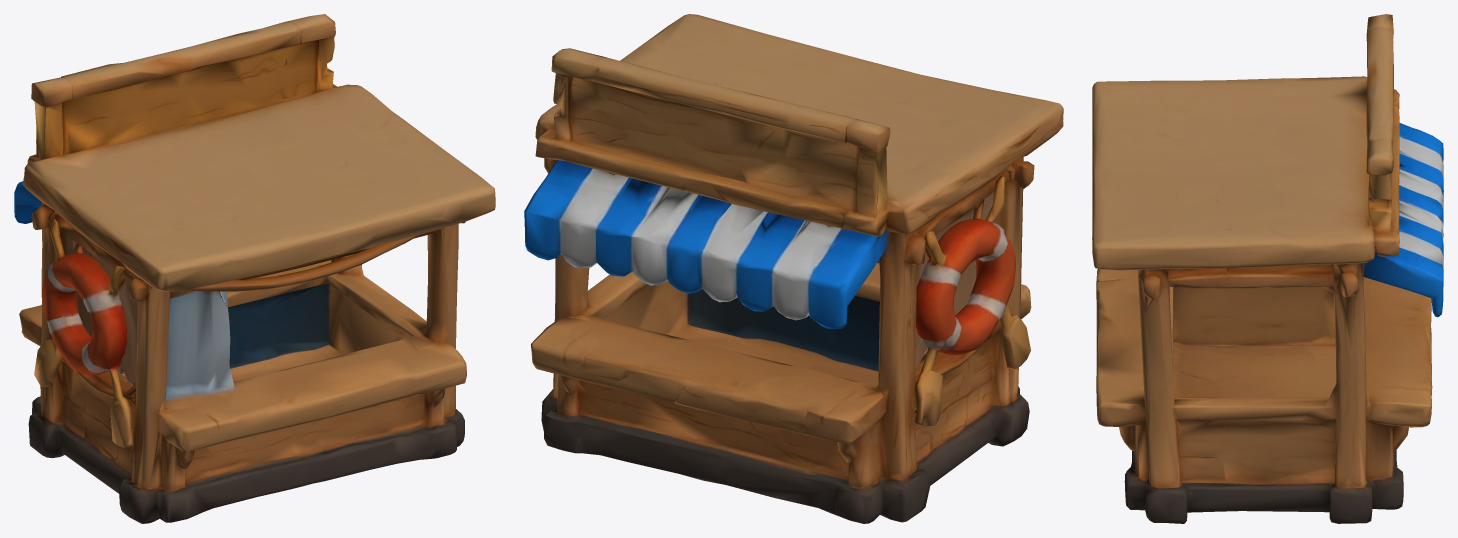
Rendered from env-rental.glb.
3 renders of one model, left to right at view 1: azimuth 30°, elevation 25°; view 2: azimuth 150°, elevation 25°; view 3: azimuth 270°, elevation 25°, orthographic. The views are drawn at different scales.
Parts seen in each view (by area): view 1: tripo_node_fb00b1b6-f328-4f6e-9295-63f3f3442f17; view 2: tripo_node_fb00b1b6-f328-4f6e-9295-63f3f3442f17; view 3: tripo_node_fb00b1b6-f328-4f6e-9295-63f3f3442f17.
Boxes of the visible parts, <box> form: tripo_node_fb00b1b6-f328-4f6e-9295-63f3f3442f17: <box>14,14,495,523</box>; tripo_node_fb00b1b6-f328-4f6e-9295-63f3f3442f17: <box>524,14,1063,523</box>; tripo_node_fb00b1b6-f328-4f6e-9295-63f3f3442f17: <box>1092,14,1443,523</box>.
Size of the model in its own units: 0.9987 by 0.9771 by 0.8648.
1 material, 1 textured.
